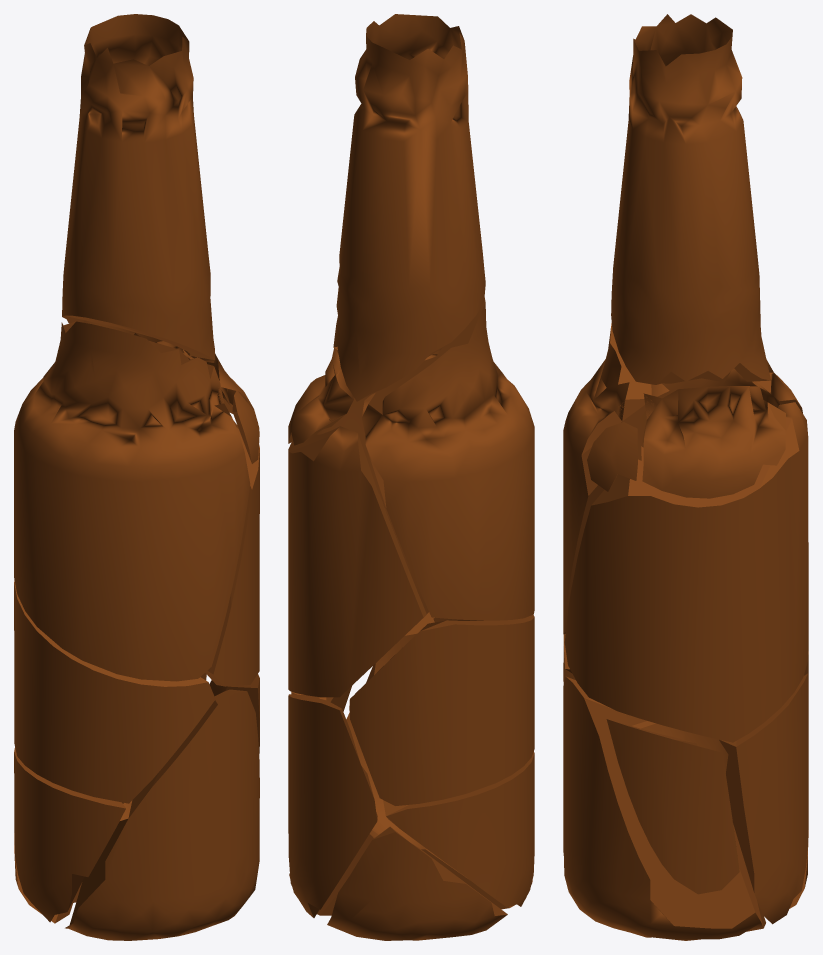
Rendered from BrokenBeerBottle.fbx.
3 renders of one model, left to right at view 1: azimuth 30°, elevation 25°; view 2: azimuth 150°, elevation 25°; view 3: azimuth 270°, elevation 25°, orthographic.
Parts seen in each view (by area): view 1: BeerBottle_cell.005, BeerBottle_cell.010, BeerBottle_cell.014, BeerBottle_cell.019, BeerBottle_cell.012, BeerBottle_cell.018, BeerBottle_cell.017, BeerBottle_cell.006, BeerBottle_cell; view 2: BeerBottle_cell.010, BeerBottle_cell.005, BeerBottle_cell.019, BeerBottle_cell.018, BeerBottle_cell.013, BeerBottle_cell.015, BeerBottle_cell.012, BeerBottle_cell.006, BeerBottle_cell.014; view 3: BeerBottle_cell.018, BeerBottle_cell.010, BeerBottle_cell.014, BeerBottle_cell, BeerBottle_cell.013, BeerBottle_cell.006, BeerBottle_cell.005, BeerBottle_cell.017, BeerBottle_cell.012.
Part boxes in pixels (bbox=[...]): BeerBottle_cell.005: bbox=[14, 321, 250, 681]; BeerBottle_cell.010: bbox=[62, 14, 214, 359]; BeerBottle_cell.014: bbox=[65, 689, 259, 940]; BeerBottle_cell.019: bbox=[14, 580, 215, 803]; BeerBottle_cell.012: bbox=[14, 747, 125, 922]; BeerBottle_cell.018: bbox=[205, 420, 259, 686]; BeerBottle_cell.017: bbox=[232, 390, 259, 463]; BeerBottle_cell.006: bbox=[134, 333, 254, 413]; BeerBottle_cell: bbox=[209, 674, 259, 753]; BeerBottle_cell.010: bbox=[333, 14, 485, 401]; BeerBottle_cell.005: bbox=[361, 298, 534, 620]; BeerBottle_cell.019: bbox=[349, 614, 534, 805]; BeerBottle_cell.018: bbox=[288, 395, 428, 697]; BeerBottle_cell.013: bbox=[288, 694, 377, 917]; BeerBottle_cell.015: bbox=[327, 826, 507, 940]; BeerBottle_cell.012: bbox=[383, 751, 534, 907]; BeerBottle_cell.006: bbox=[288, 348, 353, 445]; BeerBottle_cell.014: bbox=[289, 612, 532, 915]; BeerBottle_cell.018: bbox=[564, 402, 808, 742]; BeerBottle_cell.010: bbox=[611, 14, 770, 384]; BeerBottle_cell.014: bbox=[563, 676, 765, 940]; BeerBottle_cell: bbox=[606, 719, 739, 894]; BeerBottle_cell.013: bbox=[719, 673, 808, 924]; BeerBottle_cell.006: bbox=[641, 386, 785, 498]; BeerBottle_cell.005: bbox=[563, 323, 802, 634]; BeerBottle_cell.017: bbox=[587, 422, 637, 491]; BeerBottle_cell.012: bbox=[632, 721, 728, 773].
Size of the model in its own units: 0.0707 by 0.2765 by 0.0708.
